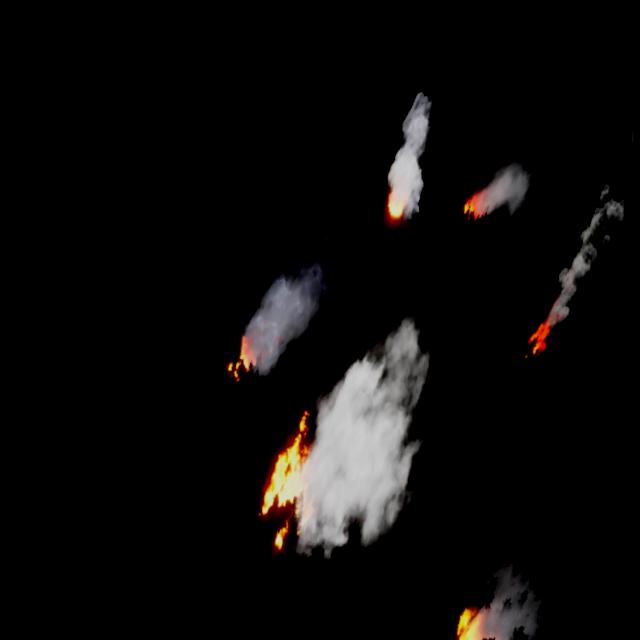fire: (245, 400, 326, 558), (219, 328, 266, 389), (446, 601, 507, 640), (520, 310, 556, 365), (381, 188, 410, 230), (466, 183, 496, 216)
smoke: (282, 304, 456, 592), (238, 200, 354, 390), (543, 180, 633, 348), (459, 547, 562, 640), (377, 90, 448, 214), (476, 153, 535, 220)
